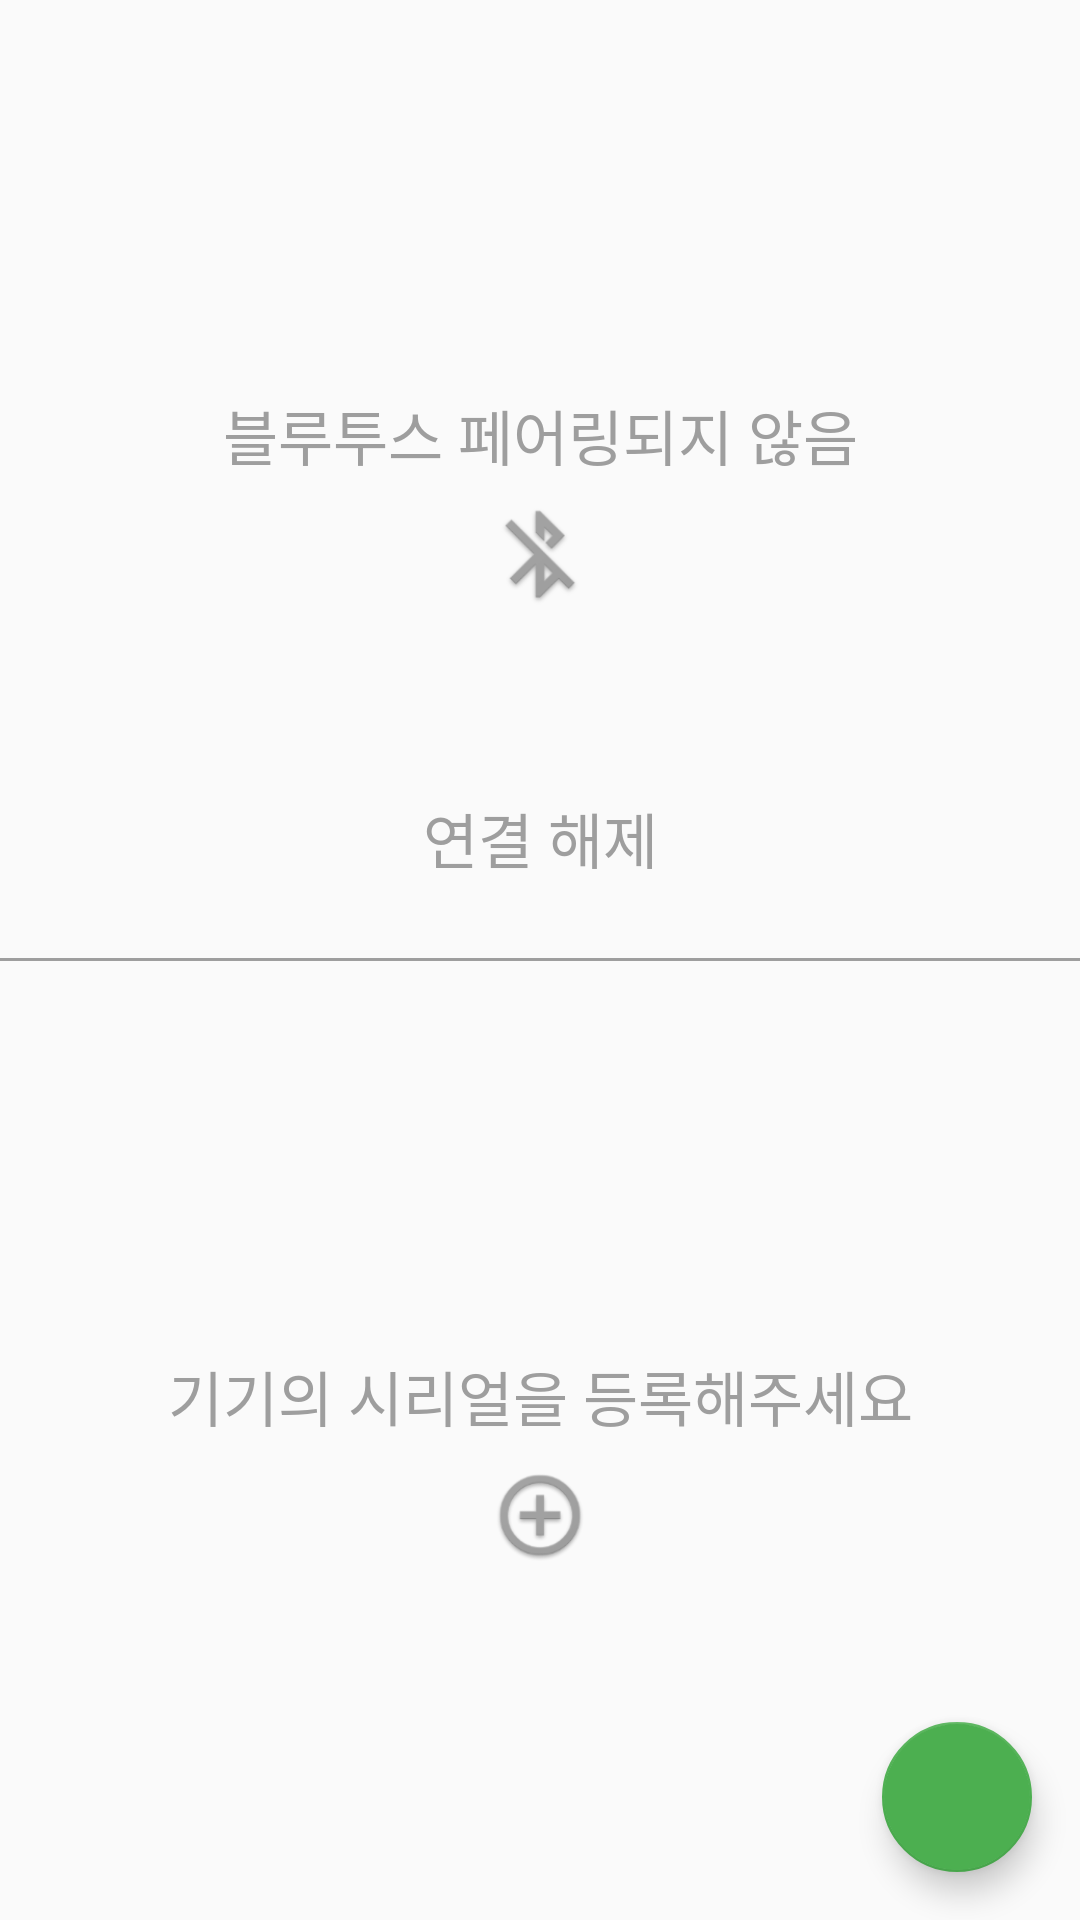

Icon bounding boxes for this 1080w x 1920h phone screenshot, format [left=x1, top=y1, right=x2, bottom=y2]:
add: [left=499, top=1475, right=581, bottom=1558]
